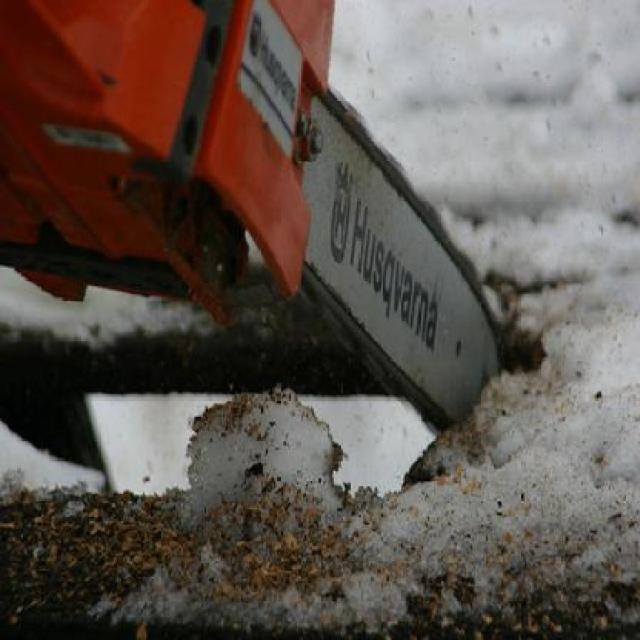Chainsaw: (0, 1, 503, 437)
